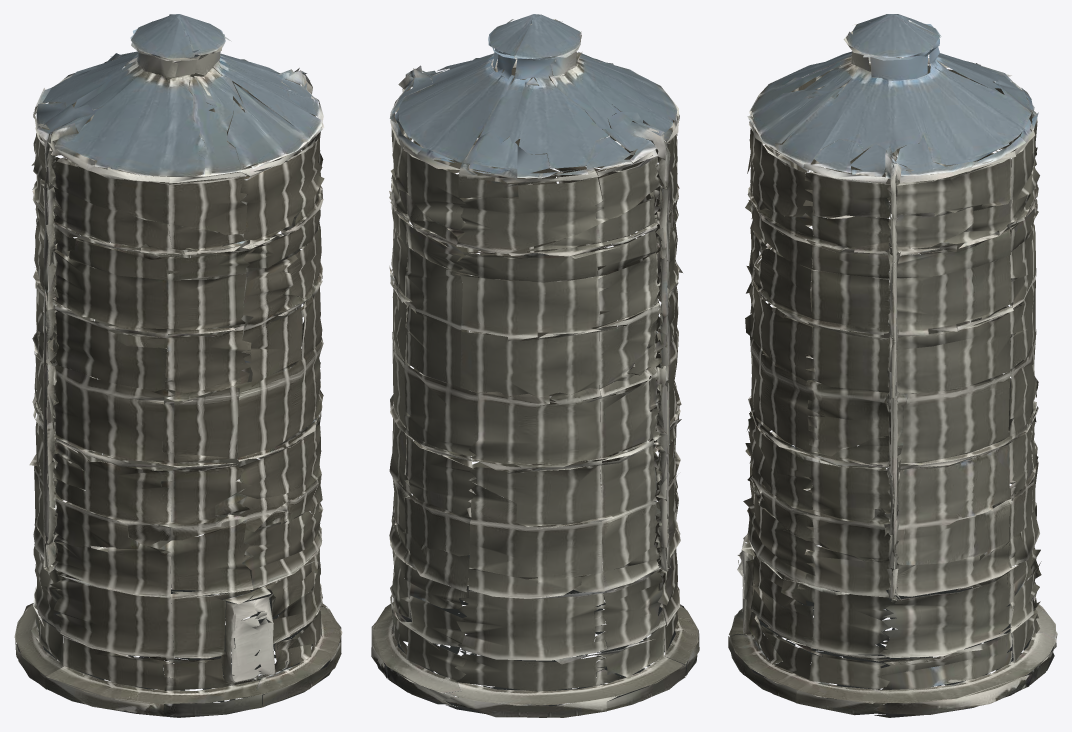
Rendered from silo.23777549ecf9.glb.
The picture shows the model from 3 angles, left to right: view 1: azimuth 30°, elevation 25°; view 2: azimuth 150°, elevation 25°; view 3: azimuth 270°, elevation 25°; orthographic projection.
Parts seen in each view (by area): view 1: Mesh_0; view 2: Mesh_0; view 3: Mesh_0.
Part boxes in pixels (x1=…): Mesh_0: x1=14, y1=14, x2=342, y2=717; Mesh_0: x1=371, y1=14, x2=699, y2=717; Mesh_0: x1=728, y1=14, x2=1057, y2=717.
Size of the model in its own units: 3.52 by 7.5 by 3.53.
1 material, 1 textured.
